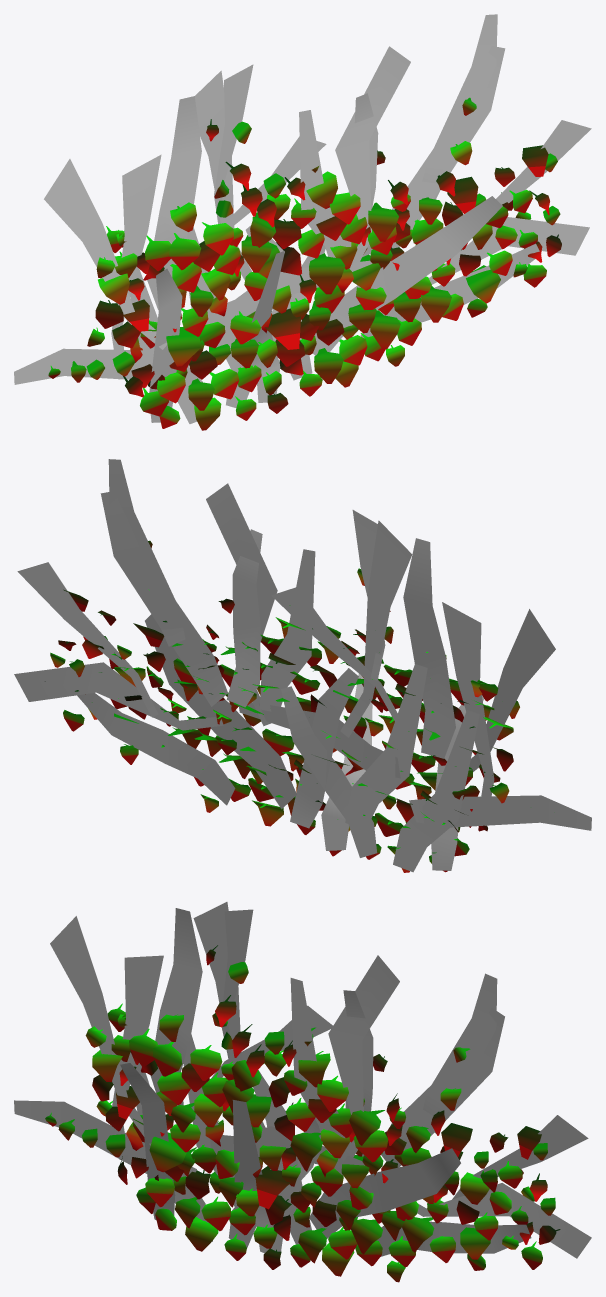
The model's file is Var3_LOD1.fbx.
3 views of the same model, one above another, from view 1: azimuth 30°, elevation 25°; view 2: azimuth 150°, elevation 25°; view 3: azimuth 330°, elevation 25° (orthographic).
Visible parts, largest first — view 1: _f2fc_Var3_LOD1; view 2: _f2fc_Var3_LOD1; view 3: _f2fc_Var3_LOD1.
Boxes of the visible parts, x1=… form: _f2fc_Var3_LOD1: x1=14, y1=14, x2=591, y2=430; _f2fc_Var3_LOD1: x1=14, y1=459, x2=591, y2=872; _f2fc_Var3_LOD1: x1=14, y1=902, x2=591, y2=1282.
Size of the model in its own units: 102 by 59.6 by 9.37.
